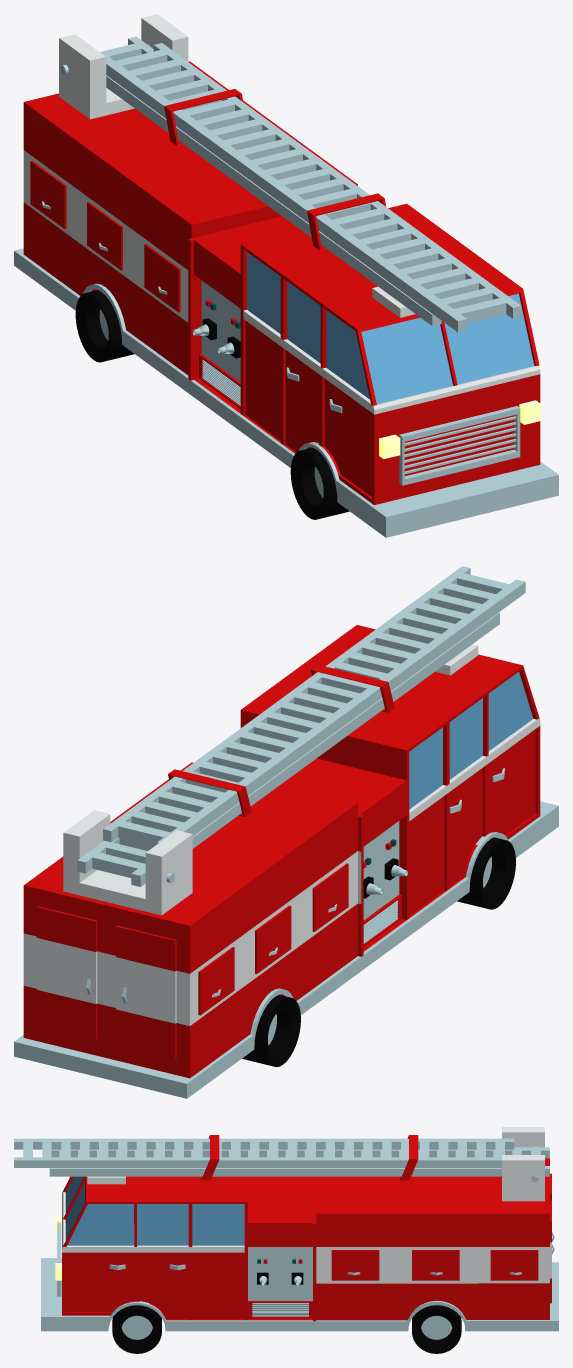
File: pemadam.glb
3 renders of one model, top to bottom at view 1: azimuth 30°, elevation 25°; view 2: azimuth 150°, elevation 25°; view 3: azimuth 270°, elevation 25°, orthographic. The views are drawn at different scales.
Visible parts, largest first — view 1: Plane.299, Plane.002; view 2: Plane.299, Plane.002; view 3: Plane.299, Plane.002.
Part boxes in pixels (box(x1,y1,x2,y2)): Plane.299: box(14, 14, 558, 537); Plane.002: box(75, 290, 349, 519); Plane.299: box(14, 566, 558, 1098); Plane.002: box(242, 837, 515, 1067); Plane.299: box(14, 1127, 558, 1331); Plane.002: box(112, 1305, 461, 1353).
Size of the model in its own units: 2.4 by 3.06 by 8.54.
